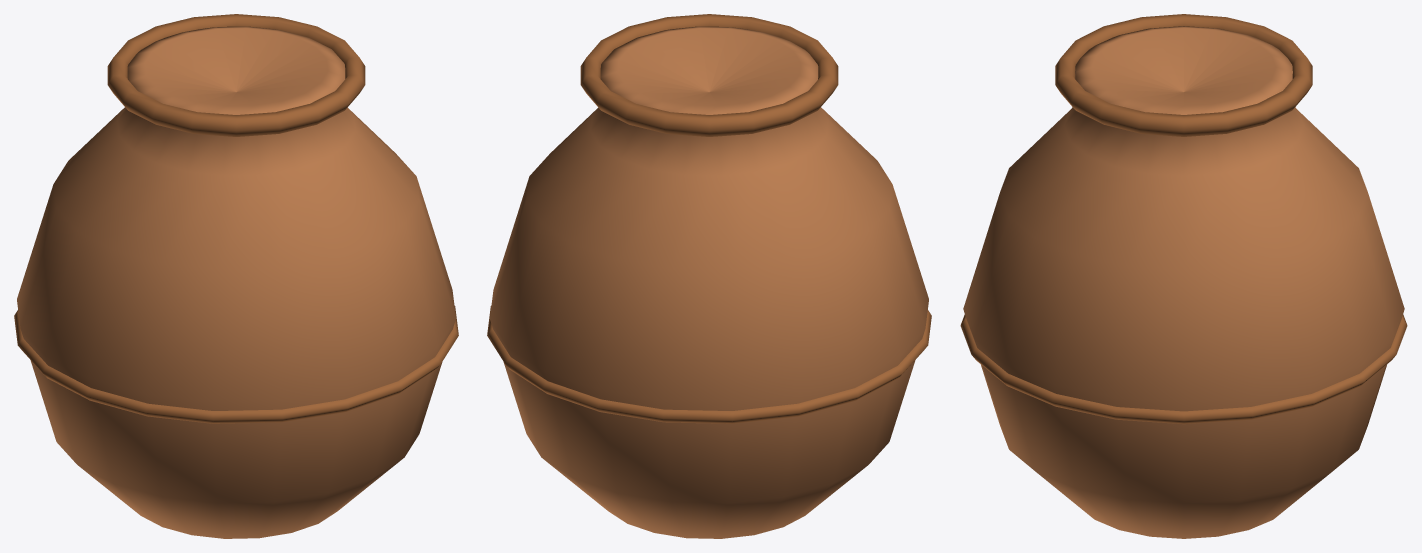
Rendered from clay_pot.glb.
3 renders of one model, left to right at view 1: azimuth 30°, elevation 25°; view 2: azimuth 150°, elevation 25°; view 3: azimuth 270°, elevation 25°, orthographic.
Parts seen in each view (by area): view 1: clay_pot; view 2: clay_pot; view 3: clay_pot.
Boxes of the visible parts, x1,y1,x2,y2 form: clay_pot: [14, 14, 458, 538]; clay_pot: [487, 14, 931, 538]; clay_pot: [960, 14, 1407, 538].
Size of the model in its own units: 0.486 by 0.5104 by 0.486.
